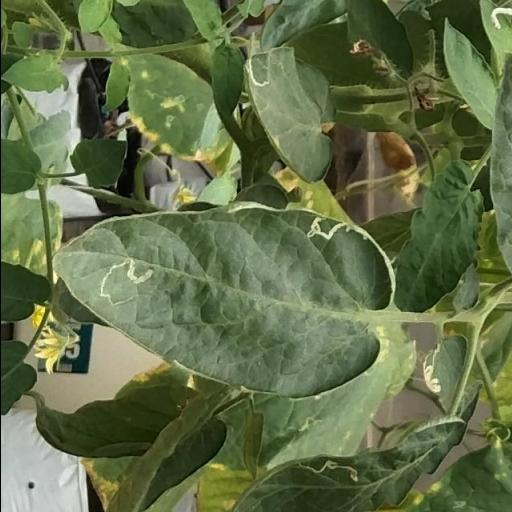Healthy: (394, 158, 486, 314)
Leaf Miner: (46, 204, 392, 402), (420, 330, 474, 416)
